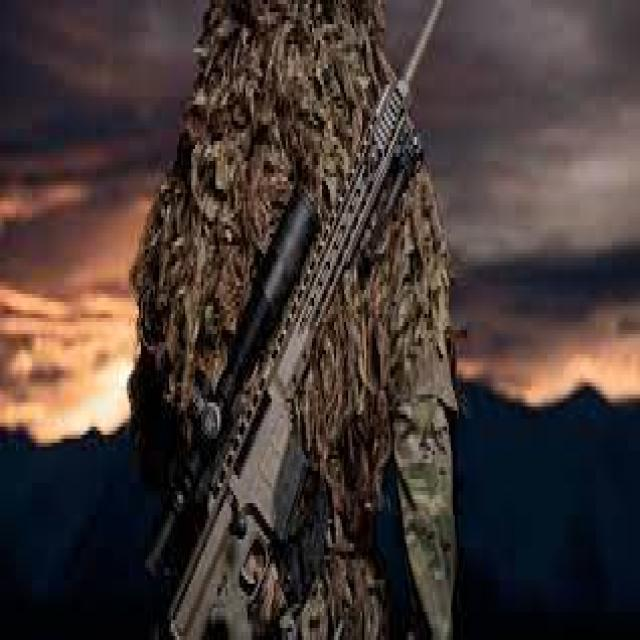rifle: (135, 0, 476, 640)
